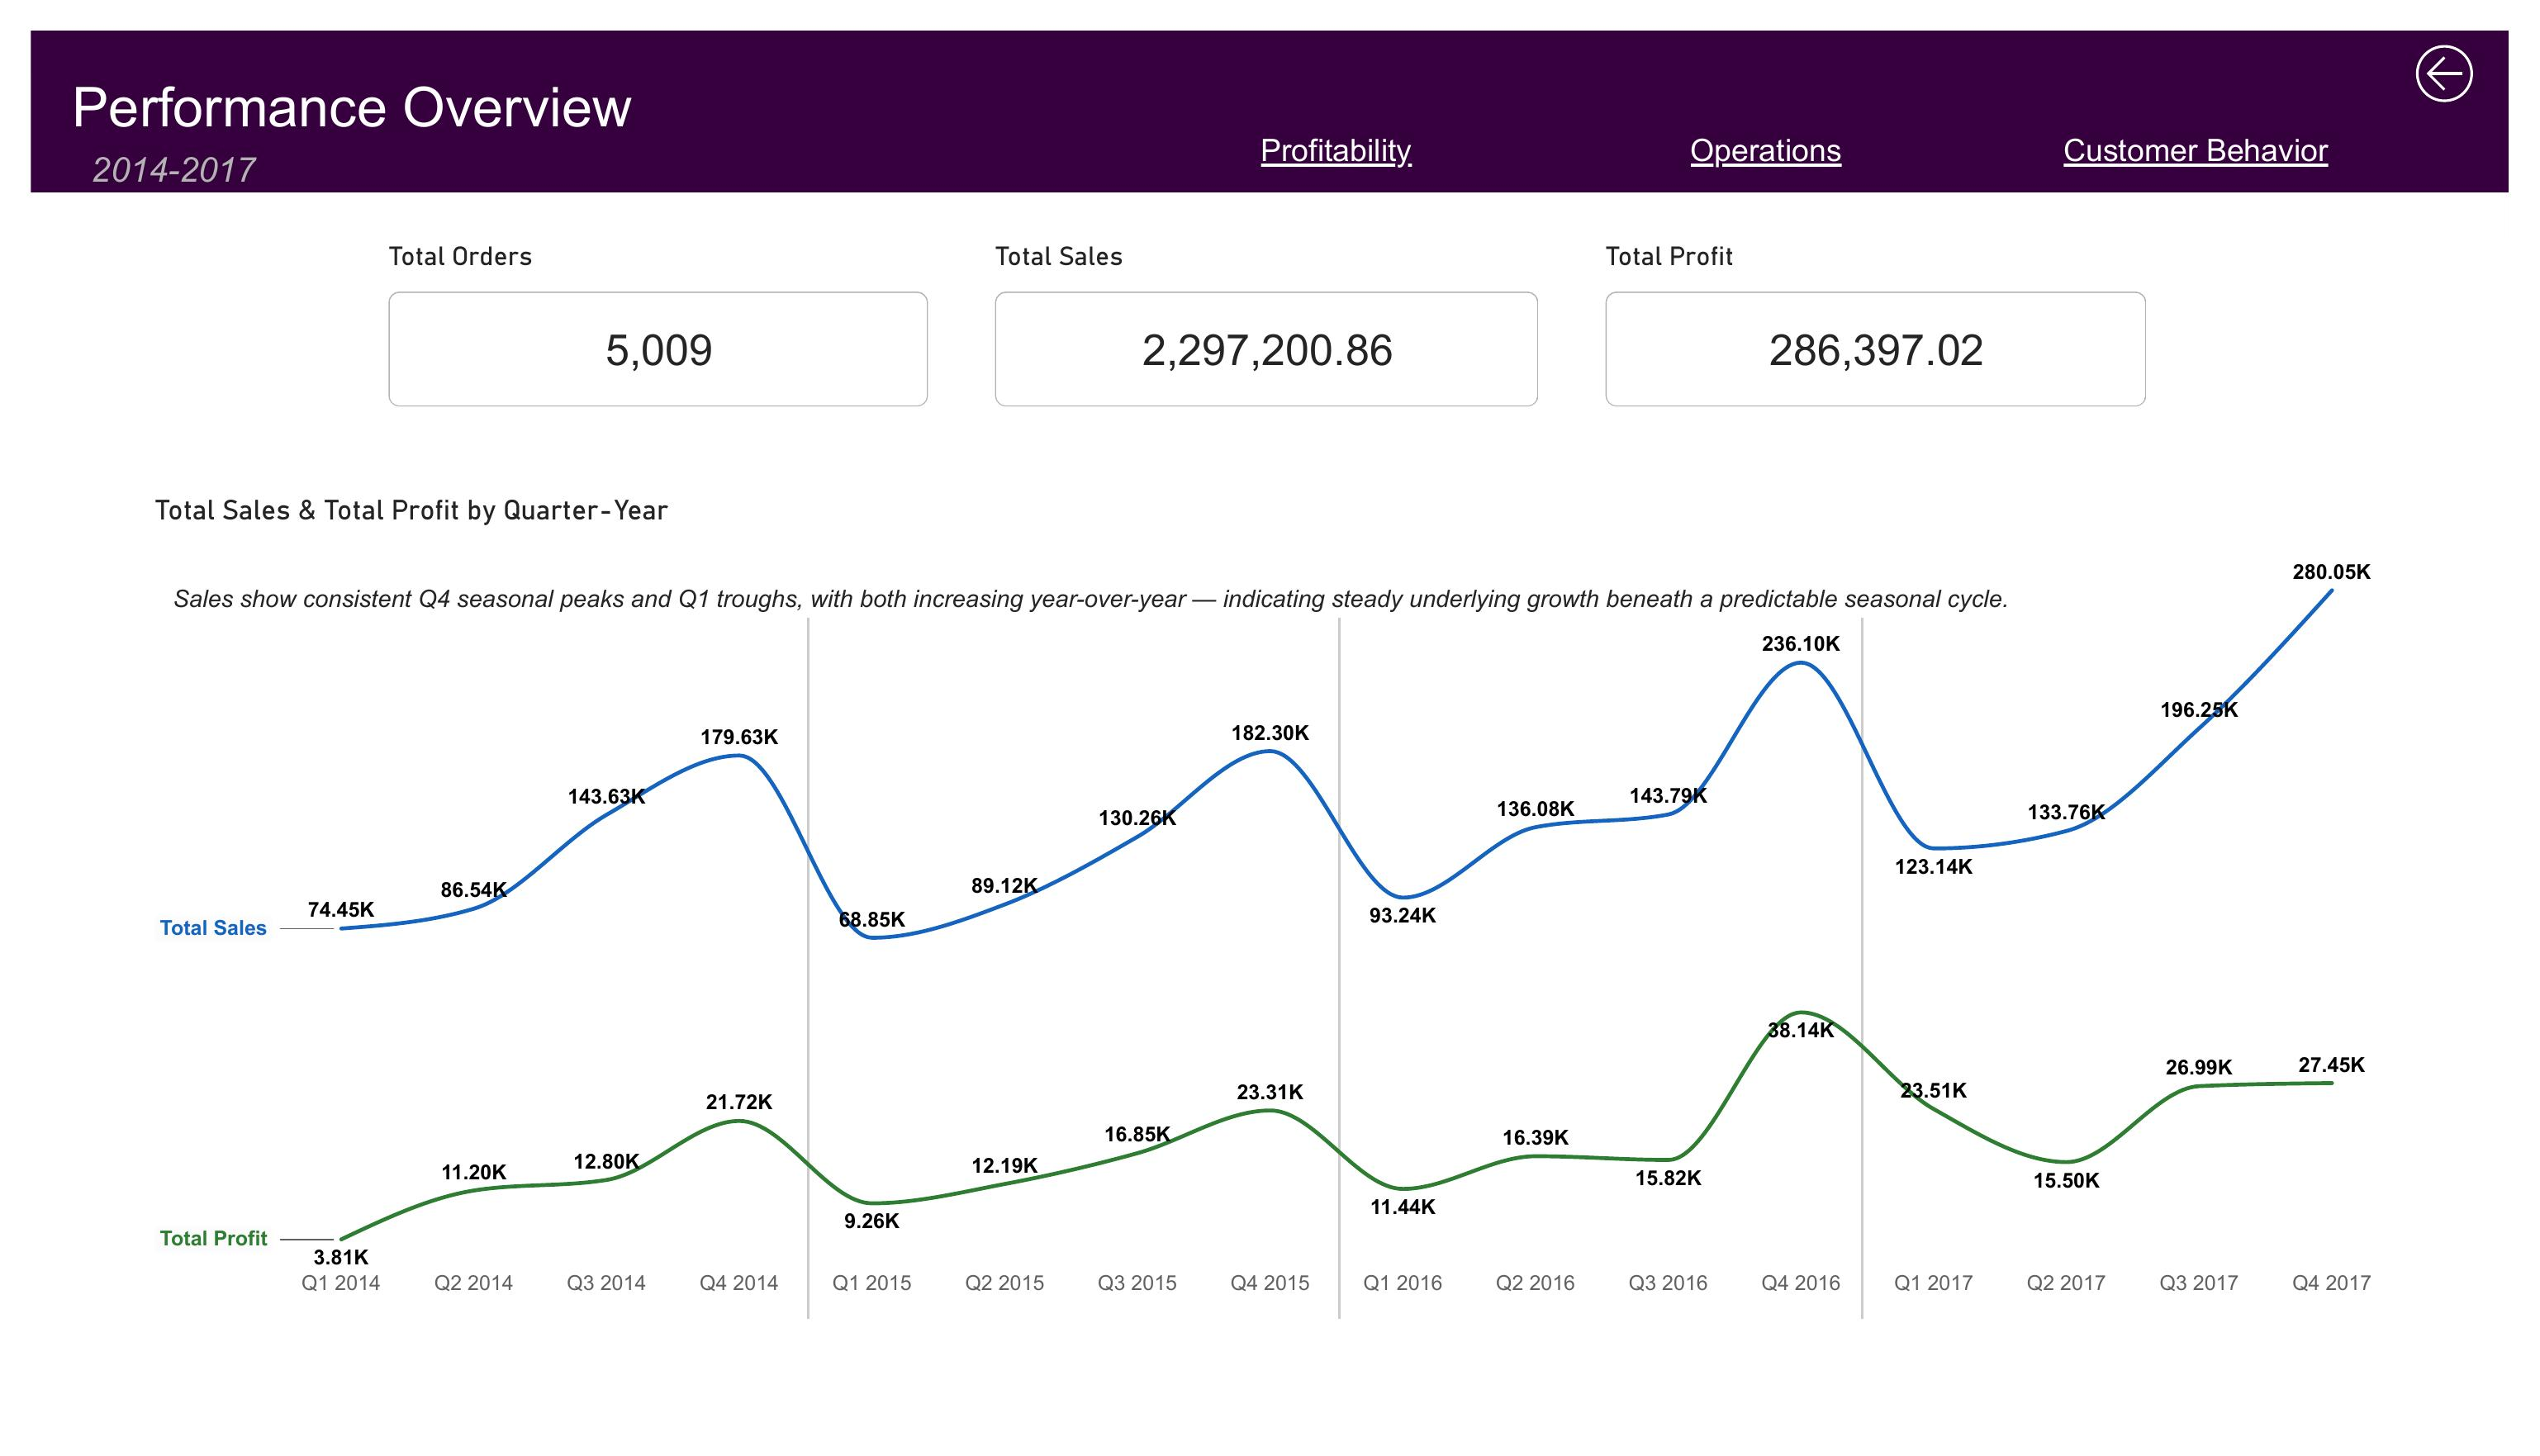

The dashboard page shown, as its layout file describes it:
{"tool":"powerbi","page":{"name":"Overview","canvas":[1920,1080],"ordinal":1},"visuals":[{"type":"shape","box":[0,0,1920.2,125.2],"z":0},{"type":"cardVisual","title":"Total Sales","fields":{"Data":["stg_orders.Total Sales"]},"box":[747.5,163.3,420.4,129.1],"z":1000},{"type":"cardVisual","title":"Total Profit","fields":{"Data":["stg_orders.Total Profit"]},"box":[1220,163.3,418.6,129.1],"z":2000},{"type":"cardVisual","title":"Total Orders","fields":{"Data":["stg_orders.Total Orders"]},"box":[276.7,163.3,418.6,129.1],"z":3000},{"type":"shape","box":[1410,455,18.3,543.3],"z":4000},{"type":"textbox","box":[31.7,35.1,531,58.4],"z":5000},{"type":"shape","box":[1001.7,455,23.3,543.3],"z":6000},{"type":"shape","box":[593.3,455,18.3,543.3],"z":7000},{"type":"lineChart","title":"Total Sales & Total Profit by Quarter-Year","fields":{"Category":["DimQuarterYear.QuarterYear"],"Y":["stg_orders.Total Profit"]},"box":[80.1,728,1759.9,270.5],"z":8000},{"type":"lineChart","title":"Total Sales & Total Profit by Quarter-Year","fields":{"Y":["stg_orders.Total Sales"],"Category":["DimQuarterYear.QuarterYear"]},"box":[80.2,345.3,1759.9,385.5],"z":9000},{"type":"textbox","box":[110,430,1593.3,48.3],"z":10000},{"type":"textbox","box":[47.3,92.7,190.9,47.3],"z":11000},{"type":"shape","box":[845.5,60,332.7,65.5],"z":12000},{"type":"shape","box":[1178.2,60,332.7,65.5],"z":13000},{"type":"shape","box":[1510.9,60,332.7,65.5],"z":14000},{"type":"actionButton","box":[1820,0,100,65],"z":14001}]}

Visuals, with their boxes on the page's 1920x1080 design canvas (x1, y1, x2, y2). These are canvas units, not pixel positions in the 2540x1456 screenshot, which may show the page scaled, cropped or inside an application window:
shape: <bbox>0, 0, 1920, 125</bbox>
"Total Sales" cardVisual: <bbox>748, 163, 1168, 292</bbox>
"Total Profit" cardVisual: <bbox>1220, 163, 1639, 292</bbox>
"Total Orders" cardVisual: <bbox>277, 163, 695, 292</bbox>
shape: <bbox>1410, 455, 1428, 998</bbox>
textbox: <bbox>32, 35, 563, 94</bbox>
shape: <bbox>1002, 455, 1025, 998</bbox>
shape: <bbox>593, 455, 612, 998</bbox>
"Total Sales & Total Profit by Quarter-Year" lineChart: <bbox>80, 728, 1840, 998</bbox>
"Total Sales & Total Profit by Quarter-Year" lineChart: <bbox>80, 345, 1840, 731</bbox>
textbox: <bbox>110, 430, 1703, 478</bbox>
textbox: <bbox>47, 93, 238, 140</bbox>
shape: <bbox>846, 60, 1178, 126</bbox>
shape: <bbox>1178, 60, 1511, 126</bbox>
shape: <bbox>1511, 60, 1844, 126</bbox>
actionButton: <bbox>1820, 0, 1920, 65</bbox>
